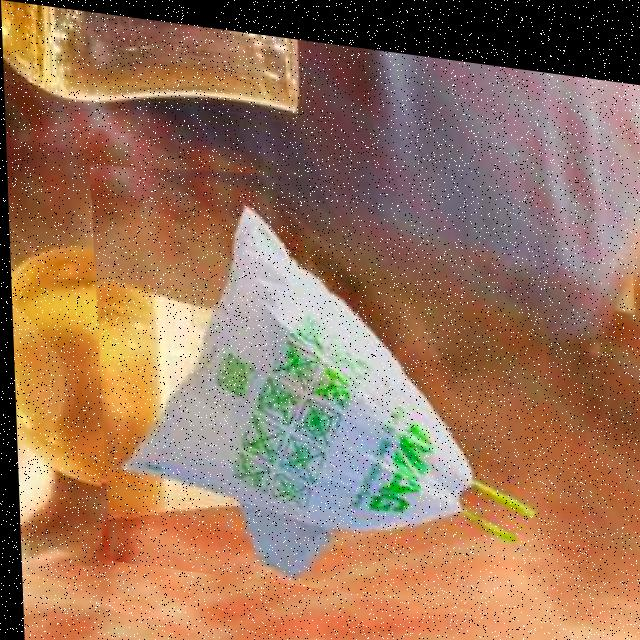plasticcover: (86, 127, 538, 604)
